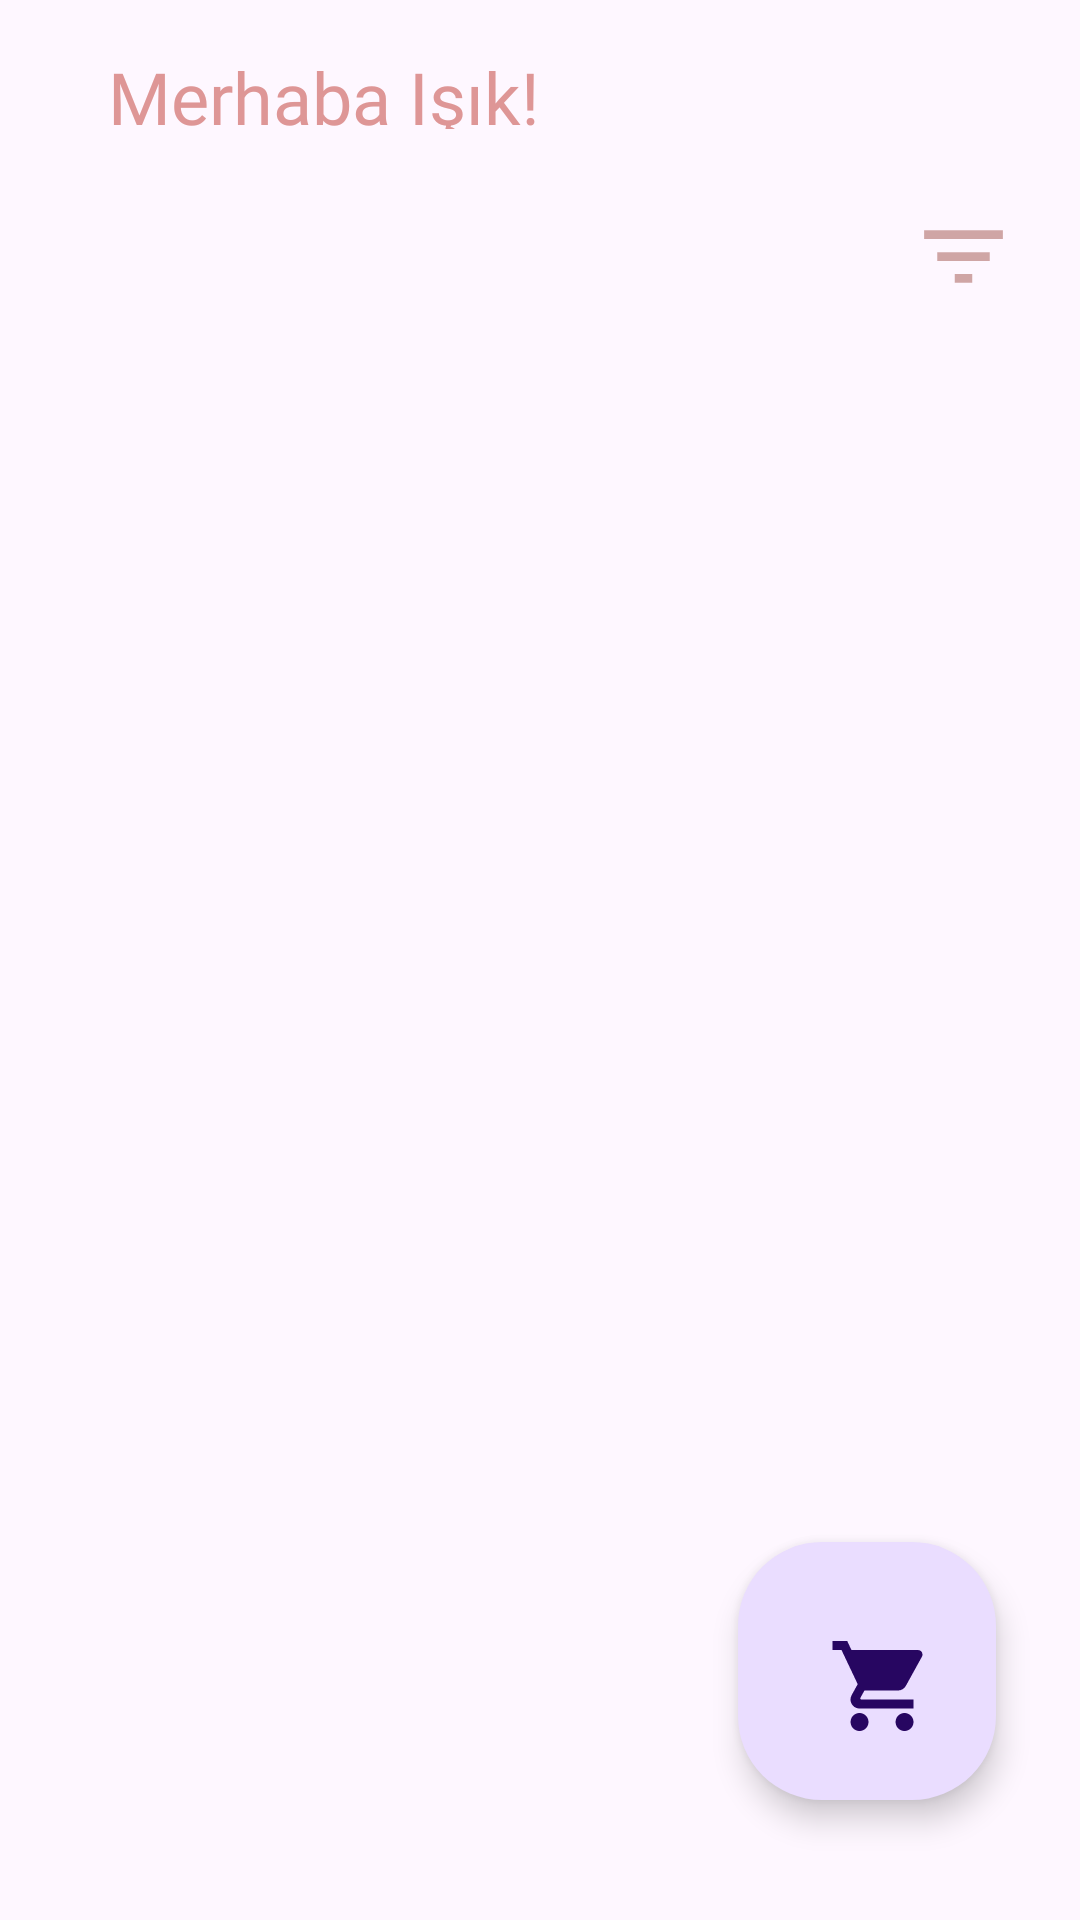

Where icons sit on this 1080w x 1920h app screen, as (x1, y1, x2, y2):
filtrele resim: (924, 230, 1003, 283)
sepet resim: (738, 1542, 996, 1800)
